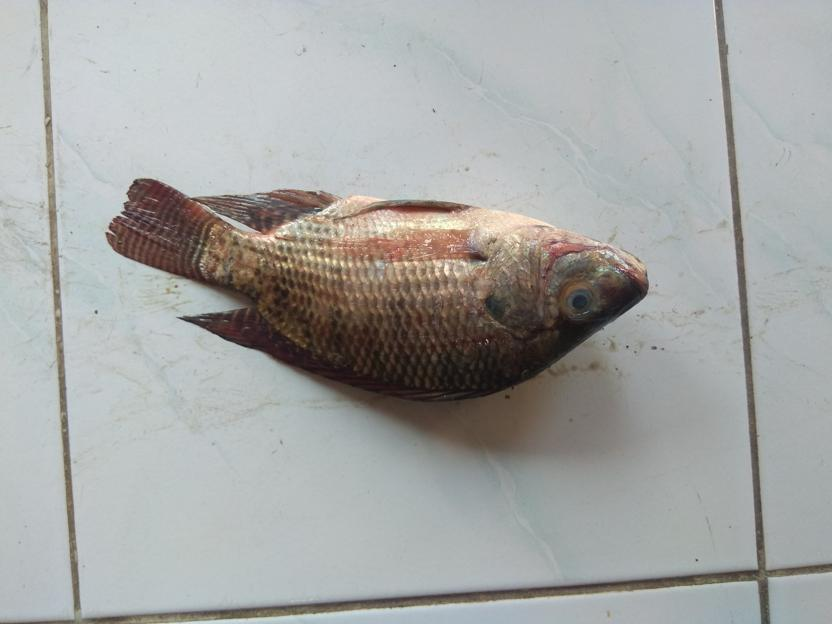Fish head: (481, 223, 654, 369)
Fish tail: (102, 174, 235, 288)
